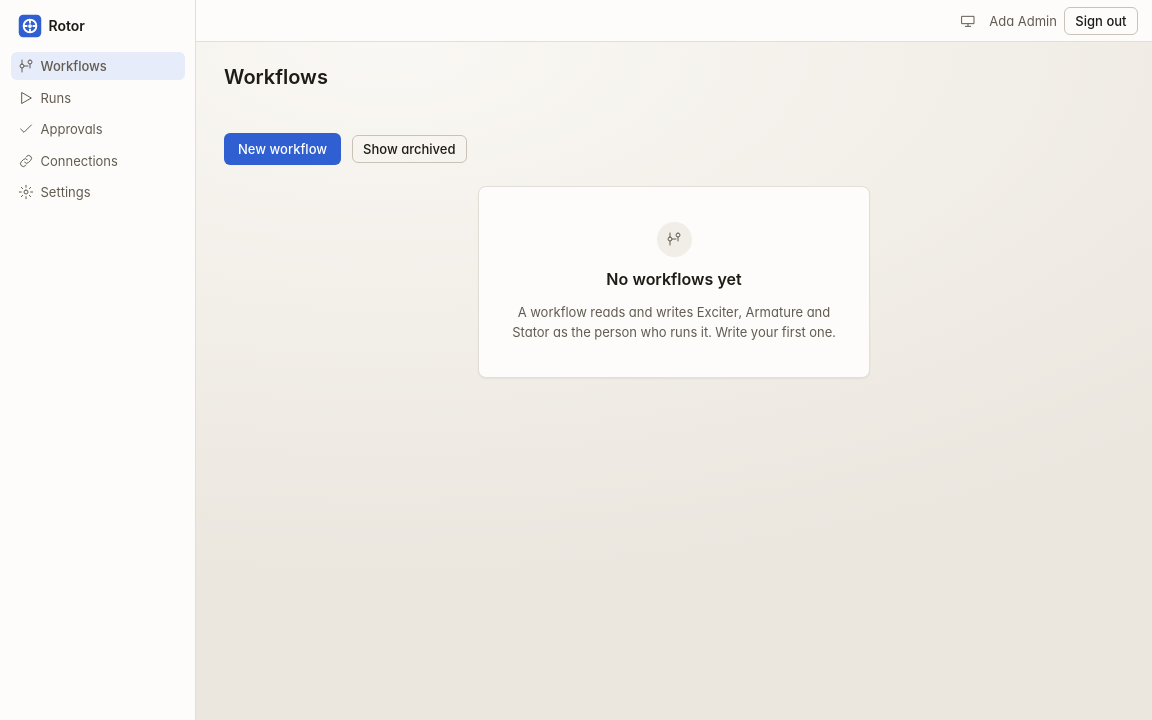
Test: the shell › follows the sidebar to another place
The image size is (1152, 720).
Click the link "Approvals" at (60,129), box [18, 121, 103, 137]
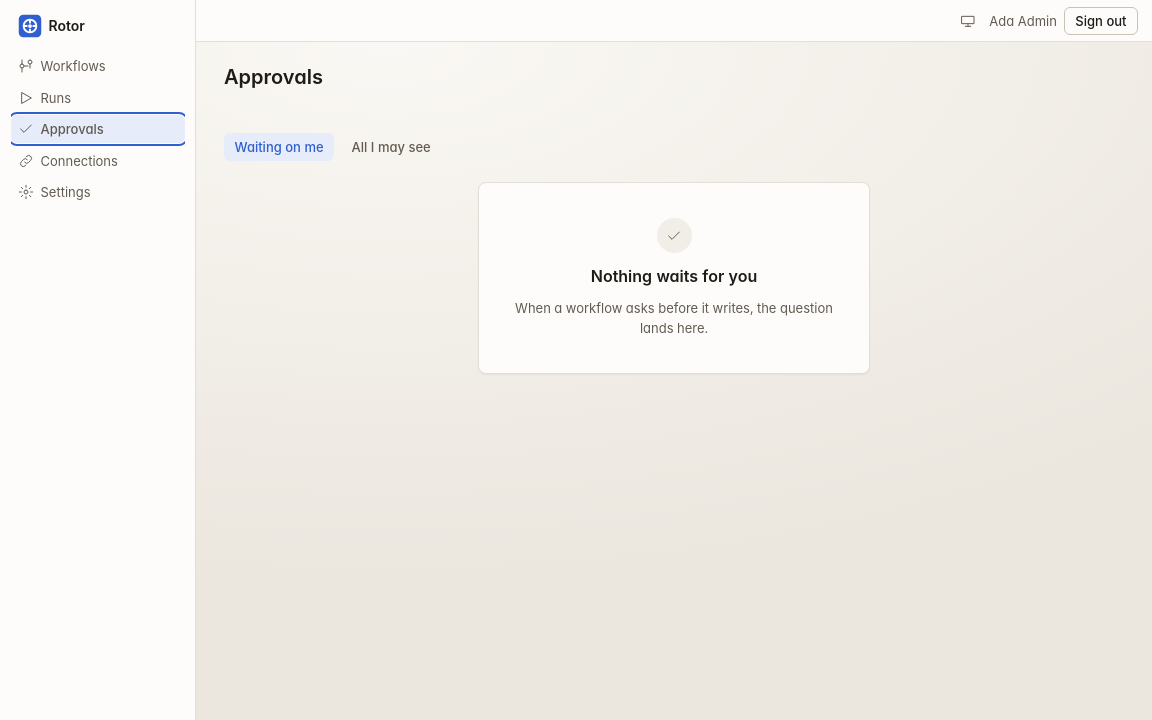
expect the heading "Nothing waits for you" is shown: met, box [591, 264, 757, 288]
